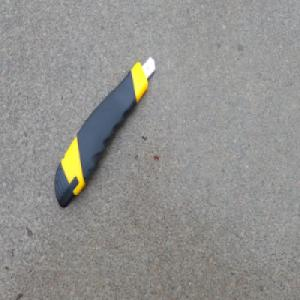Cutter: (54, 54, 156, 209)
